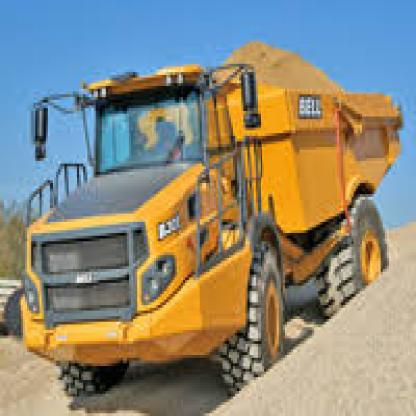dump_truck: (10, 34, 408, 400)
